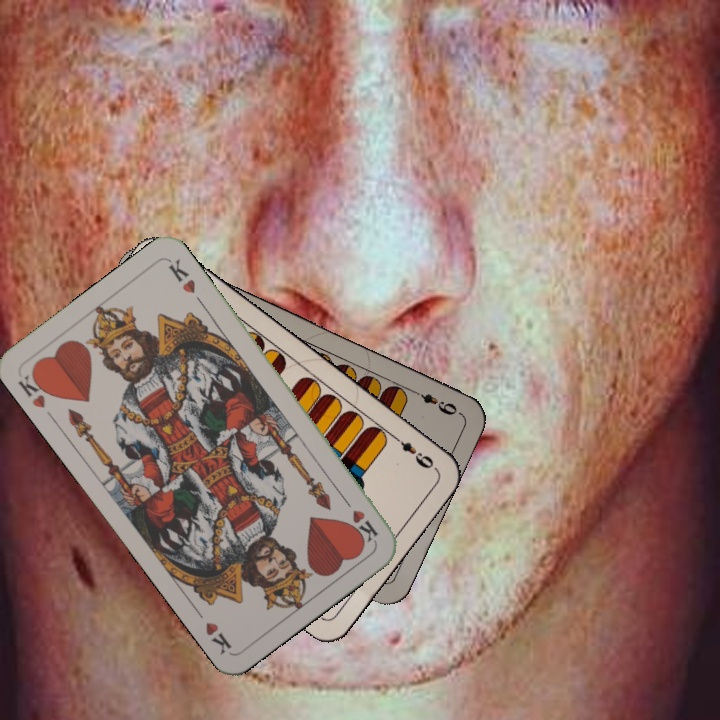E9: (388, 431, 439, 472), (407, 385, 460, 418)
HK: (337, 492, 380, 545), (13, 366, 54, 411)
